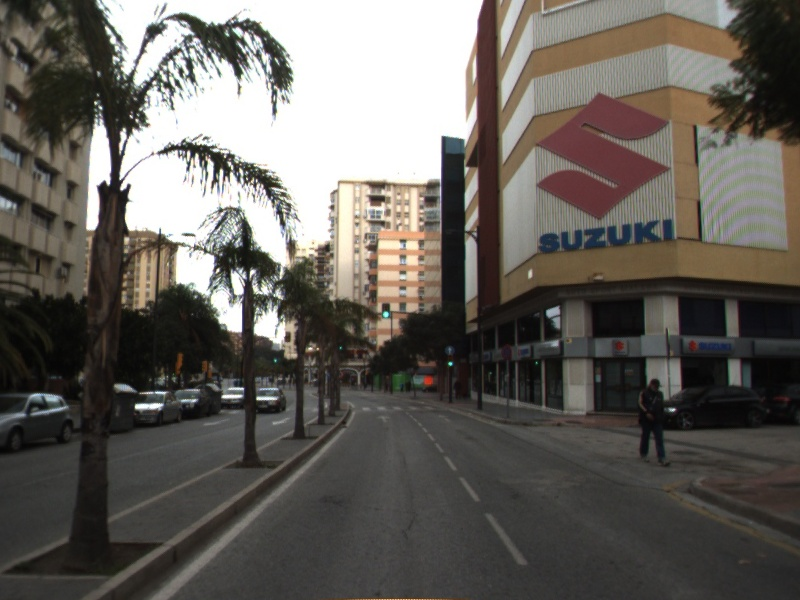STRAIGHT: (374, 413, 393, 424)
